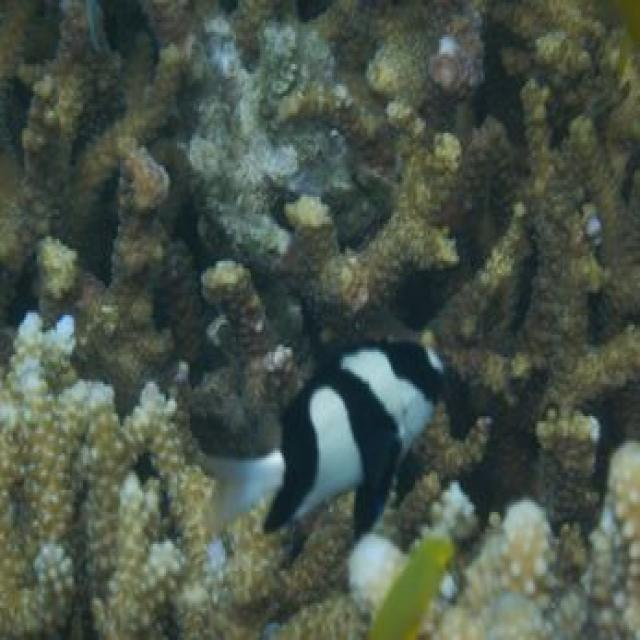ThreeStripedDamselfish: (212, 340, 444, 544)
